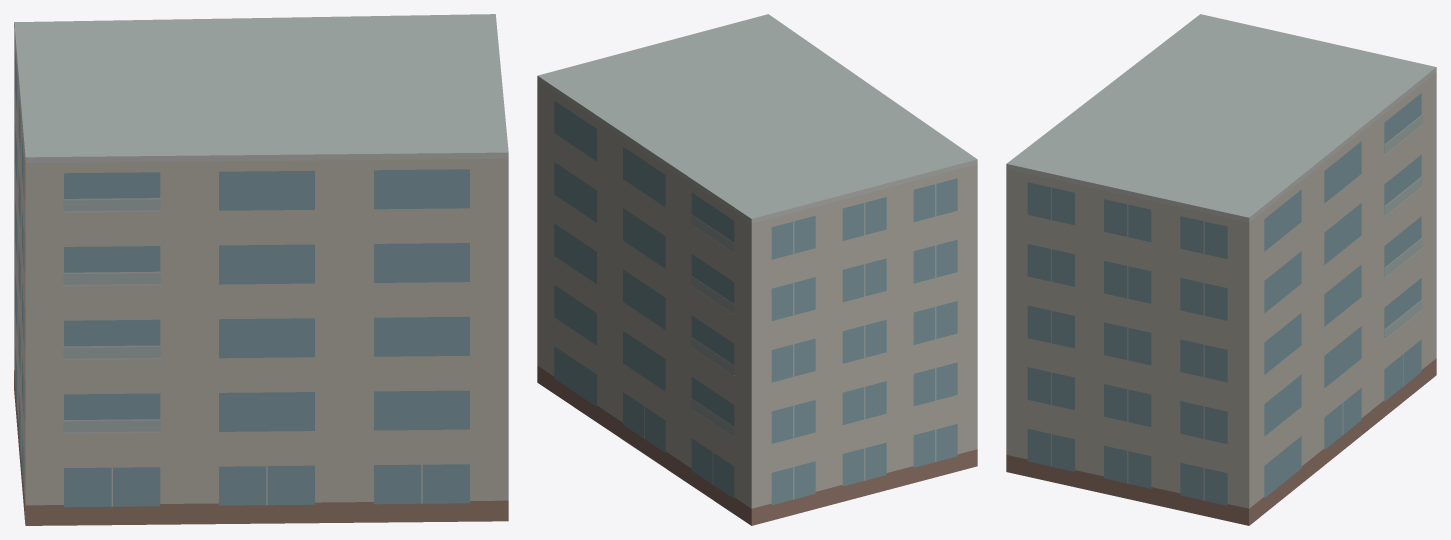
The model's file is survey-upis-32659891.glb.
The picture shows the model from 3 angles, left to right: view 1: azimuth 30°, elevation 25°; view 2: azimuth 150°, elevation 25°; view 3: azimuth 270°, elevation 25°; orthographic projection. The views are drawn at different scales.
Visible parts, largest first — view 1: survey-upis-32659891.tmp; view 2: survey-upis-32659891.tmp; view 3: survey-upis-32659891.tmp.
Part boxes in pixels (left/top/right/bottom): survey-upis-32659891.tmp: left=14, top=14, right=508, bottom=525; survey-upis-32659891.tmp: left=537, top=14, right=977, bottom=525; survey-upis-32659891.tmp: left=1006, top=14, right=1436, bottom=525.
Size of the model in its own units: 21.99 by 15.5 by 19.62.
